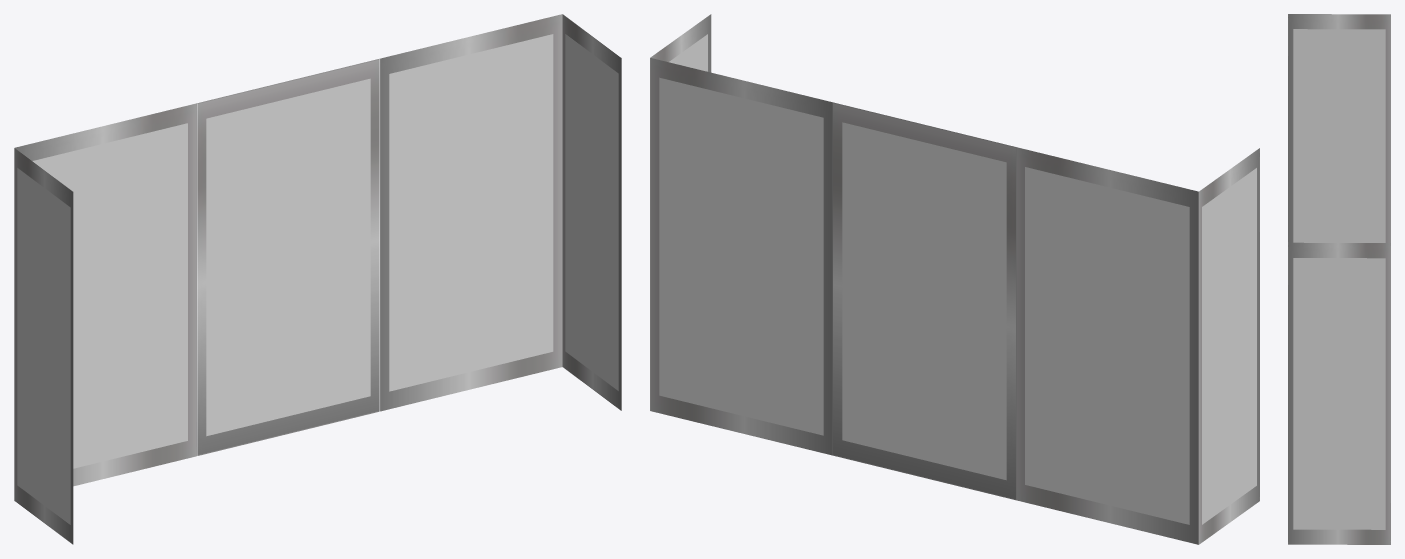
The model's file is Mampara.obj.
3 views of the same model, side by side, from view 1: azimuth 30°, elevation 25°; view 2: azimuth 150°, elevation 25°; view 3: azimuth 270°, elevation 25° (orthographic). The views are drawn at different scales.
Visible parts, largest first — view 1: Plano, Plano.001, Plano.002, Plano.003, Plano.004; view 2: Plano.001, Plano.002, Plano, Plano.004, Plano.003; view 3: Plano.003, Plano.004.
Boxes of the visible parts, x1,y1,x2,y2 form: Plano: (380, 14, 562, 411); Plano.001: (197, 58, 379, 455); Plano.002: (15, 103, 196, 486); Plano.003: (562, 14, 621, 410); Plano.004: (14, 148, 73, 544); Plano.001: (833, 102, 1015, 500); Plano.002: (1016, 147, 1198, 544); Plano: (650, 58, 832, 455); Plano.004: (1198, 148, 1259, 544); Plano.003: (650, 14, 711, 410); Plano.003: (1288, 242, 1390, 544); Plano.004: (1288, 14, 1390, 242).
Size of the model in its own units: 3.03 by 1.86 by 0.574.
Materials: 2 (2 with a texture image).
